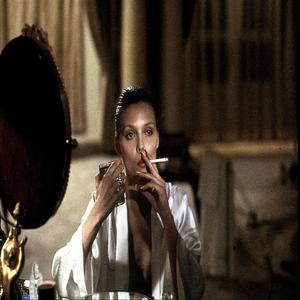cigarette: (147, 156, 171, 165)
